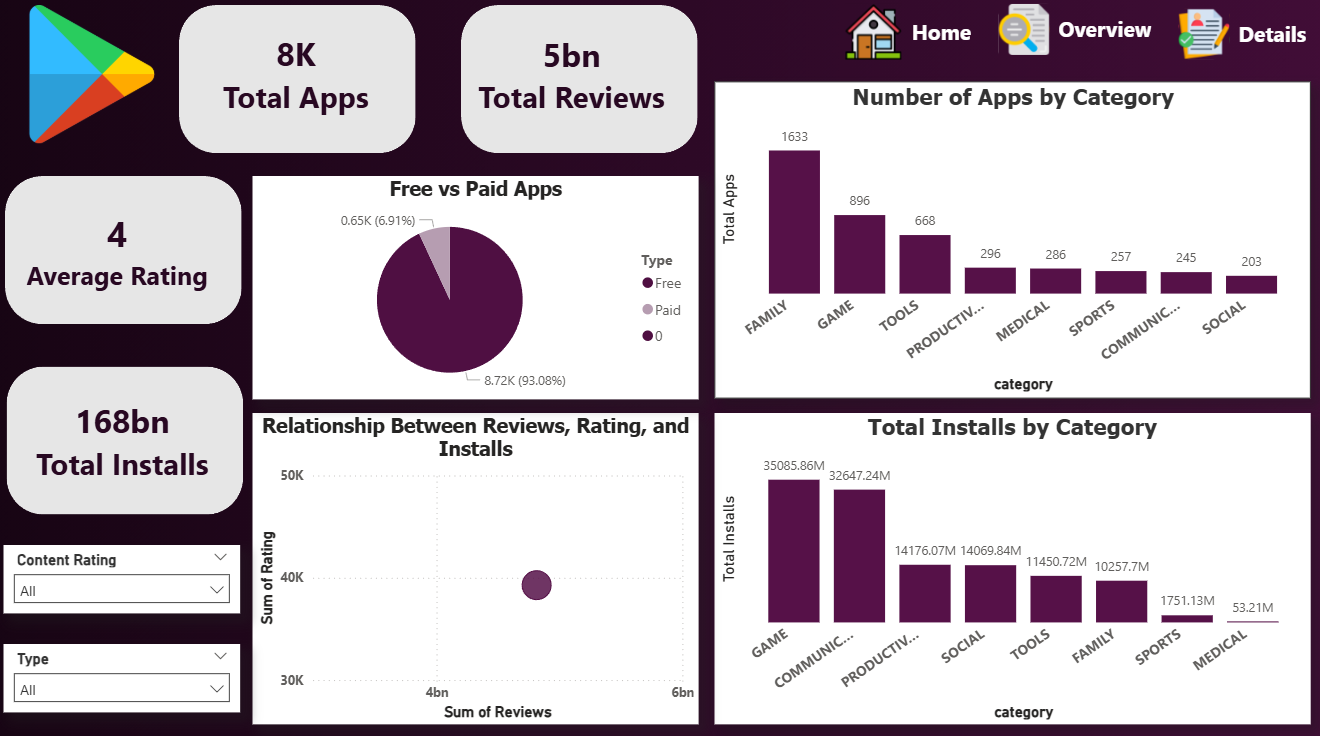

The dashboard page shown, as its layout file describes it:
{"tool":"powerbi","page":{"name":"Overview","canvas":[1280,720],"ordinal":1},"visuals":[{"type":"actionButton","box":[800.3,0,146.4,79.7],"z":0},{"type":"actionButton","box":[946.6,0,172.4,74.8],"z":1000},{"type":"actionButton","box":[1119.1,4.9,148,74.8],"z":2000},{"type":"shape","box":[177.3,14.6,226.1,141.5],"z":3000},{"type":"cardVisual","fields":{"Data":["googleplaystore.Total Apps"]},"box":[185.4,14.6,209.8,130.1],"z":4000},{"type":"shape","box":[13,359.5,226.1,141.5],"z":5000},{"type":"shape","box":[447.3,14.6,226.1,141.5],"z":6000},{"type":"shape","box":[11.4,177.3,226.1,141.5],"z":7000},{"type":"cardVisual","fields":{"Data":["googleplaystore.Total Installs"]},"box":[0,366,247.2,130.1],"z":8000},{"type":"cardVisual","fields":{"Data":["googleplaystore.Average Rating"]},"box":[0,183.8,237.5,130.1],"z":9000},{"type":"cardVisual","fields":{"Data":["googleplaystore.Total Reviews"]},"box":[432.7,26,240.7,109],"z":10000},{"type":"columnChart","title":"Number of Apps by Category","fields":{"Category":["googleplaystore.Category"],"Y":["googleplaystore.Total Apps"]},"box":[689.7,87.8,569.3,302.5],"z":11000},{"type":"columnChart","title":"Total Installs by Category","fields":{"Category":["googleplaystore.Category"],"Y":["googleplaystore.Total Installs"]},"box":[689.7,403.4,569.3,297.7],"z":12000},{"type":"scatterChart","title":"Relationship Between Reviews, Rating, and Installs","fields":{"X":["Sum(googleplaystore.Reviews)"],"Y":["Sum(googleplaystore.Rating)"],"Size":["Sum(googleplaystore.Installs)"]},"box":[247.2,403.4,426.2,297.7],"z":13000},{"type":"slicer","fields":{"Values":["googleplaystore.Content Rating"]},"box":[9.8,530.3,226.1,65.1],"z":14000},{"type":"slicer","fields":{"Values":["googleplaystore.Type"]},"box":[9.8,624.6,226.1,65.1],"z":15000},{"type":"image","box":[11.4,14.6,165.9,131.8],"z":16000},{"type":"pieChart","title":"Free vs Paid Apps","fields":{"Category":["googleplaystore.Type"],"Y":["CountNonNull(googleplaystore.App)"]},"box":[247.2,177.3,426.2,213.1],"z":17000}]}

Visuals, with their boxes in screenshot pixels (x1, y1, x2, y2), scaled from the page's 1280x720 canvas onto the 1320x736 screenshot:
actionButton: x1=825 y1=0 x2=976 y2=81
actionButton: x1=976 y1=0 x2=1154 y2=76
actionButton: x1=1154 y1=5 x2=1307 y2=81
shape: x1=183 y1=15 x2=416 y2=160
cardVisual - googleplaystore.Total Apps: x1=191 y1=15 x2=408 y2=148
shape: x1=13 y1=367 x2=247 y2=512
shape: x1=461 y1=15 x2=694 y2=160
shape: x1=12 y1=181 x2=245 y2=326
cardVisual - googleplaystore.Total Installs: x1=0 y1=374 x2=255 y2=507
cardVisual - googleplaystore.Average Rating: x1=0 y1=188 x2=245 y2=321
cardVisual - googleplaystore.Total Reviews: x1=446 y1=27 x2=694 y2=138
"Number of Apps by Category" columnChart: x1=711 y1=90 x2=1298 y2=399
"Total Installs by Category" columnChart: x1=711 y1=412 x2=1298 y2=717
"Relationship Between Reviews, Rating, and Installs" scatterChart: x1=255 y1=412 x2=694 y2=717
slicer - googleplaystore.Content Rating: x1=10 y1=542 x2=243 y2=609
slicer - googleplaystore.Type: x1=10 y1=638 x2=243 y2=705
image: x1=12 y1=15 x2=183 y2=150
"Free vs Paid Apps" pieChart: x1=255 y1=181 x2=694 y2=399
